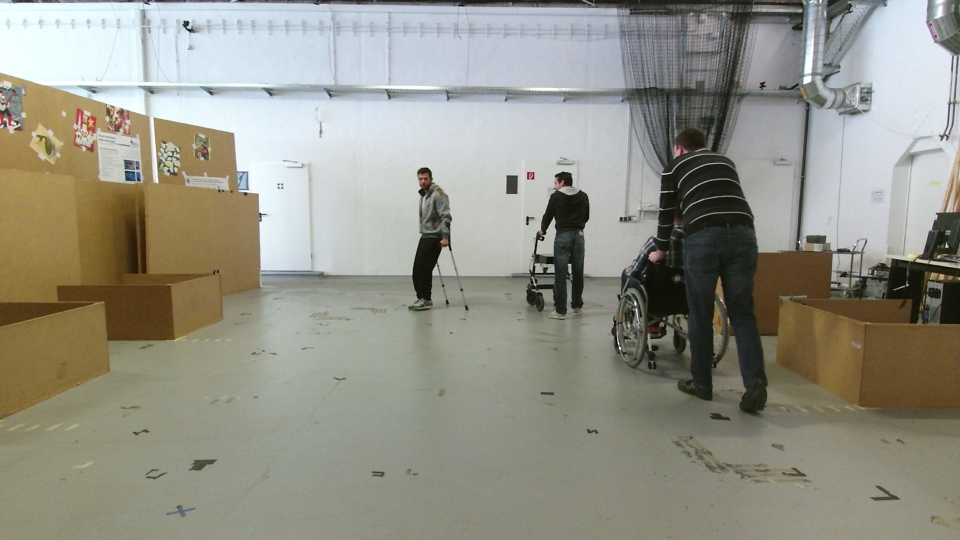crutches: (405, 164, 472, 314)
